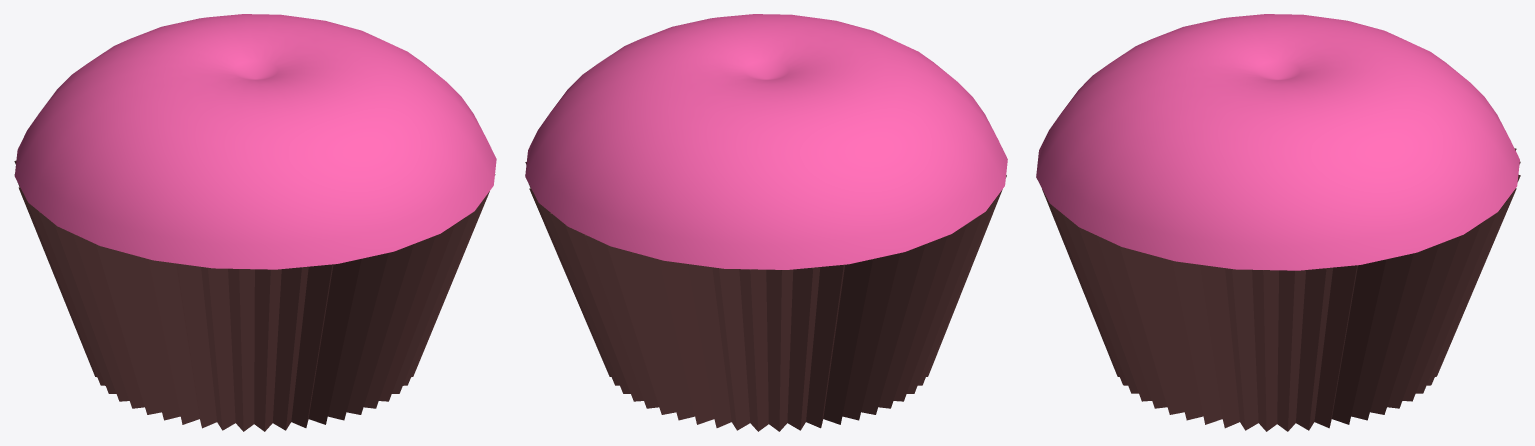
The model's file is cupcake.dae.
The picture shows the model from 3 angles, left to right: view 1: azimuth 30°, elevation 25°; view 2: azimuth 150°, elevation 25°; view 3: azimuth 270°, elevation 25°; orthographic projection.
Parts seen in each view (by area): view 1: top, bottom; view 2: top, bottom; view 3: top, bottom.
Part boxes in pixels (x1,y1,x2,y2): top: [14, 14, 496, 269]; bottom: [14, 160, 495, 431]; top: [525, 14, 1007, 269]; bottom: [525, 162, 1006, 431]; top: [1036, 14, 1519, 270]; bottom: [1042, 148, 1520, 431].
Size of the model in its own units: 3.36 by 3.37 by 2.31.
